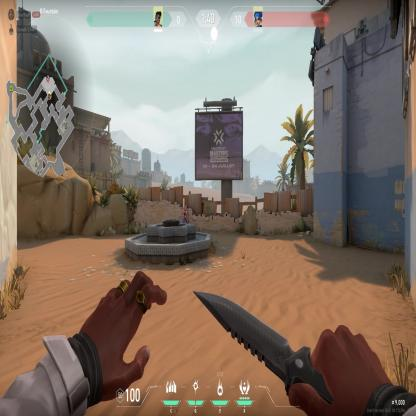enemy: (181, 203, 188, 223)
